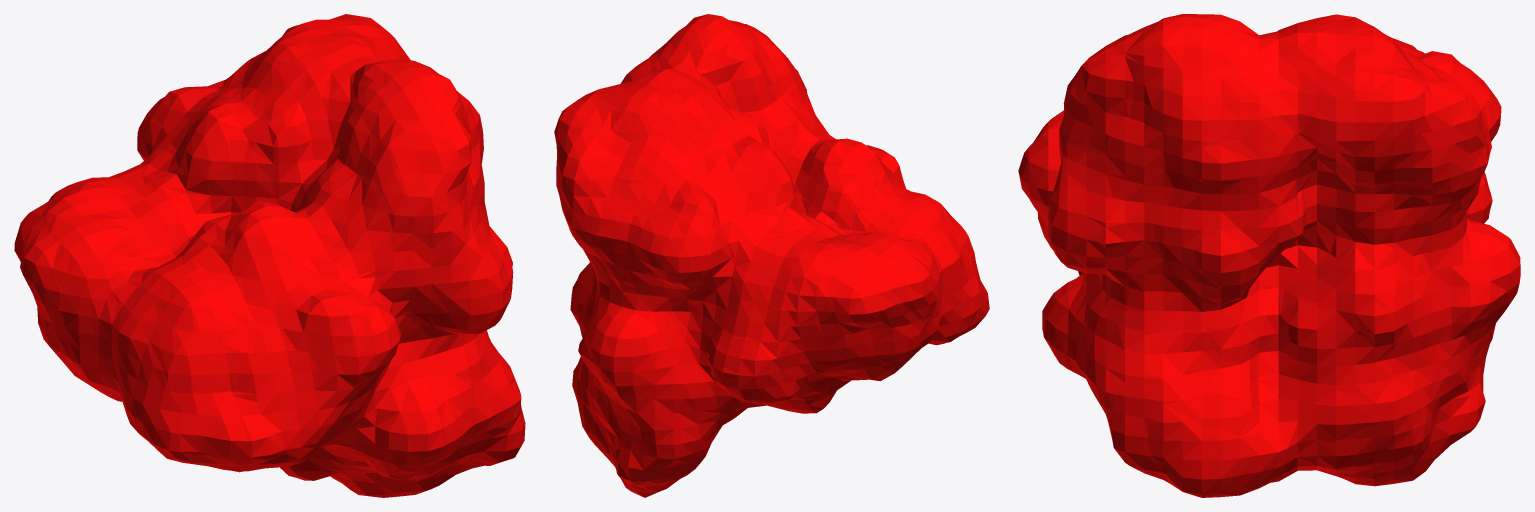
File: alsE_coarse.dae
3 views of the same model, side by side, from view 1: azimuth 30°, elevation 25°; view 2: azimuth 150°, elevation 25°; view 3: azimuth 270°, elevation 25° (orthographic). The views are drawn at different scales.
Parts seen in each view (by area): view 1: alsE; view 2: alsE; view 3: alsE.
Part boxes in pixels (x1,y1,x2,y2): alsE: [14, 14, 525, 497]; alsE: [554, 14, 989, 497]; alsE: [1018, 14, 1520, 497].
Size of the model in its own units: 87.52 by 91.18 by 87.04.
